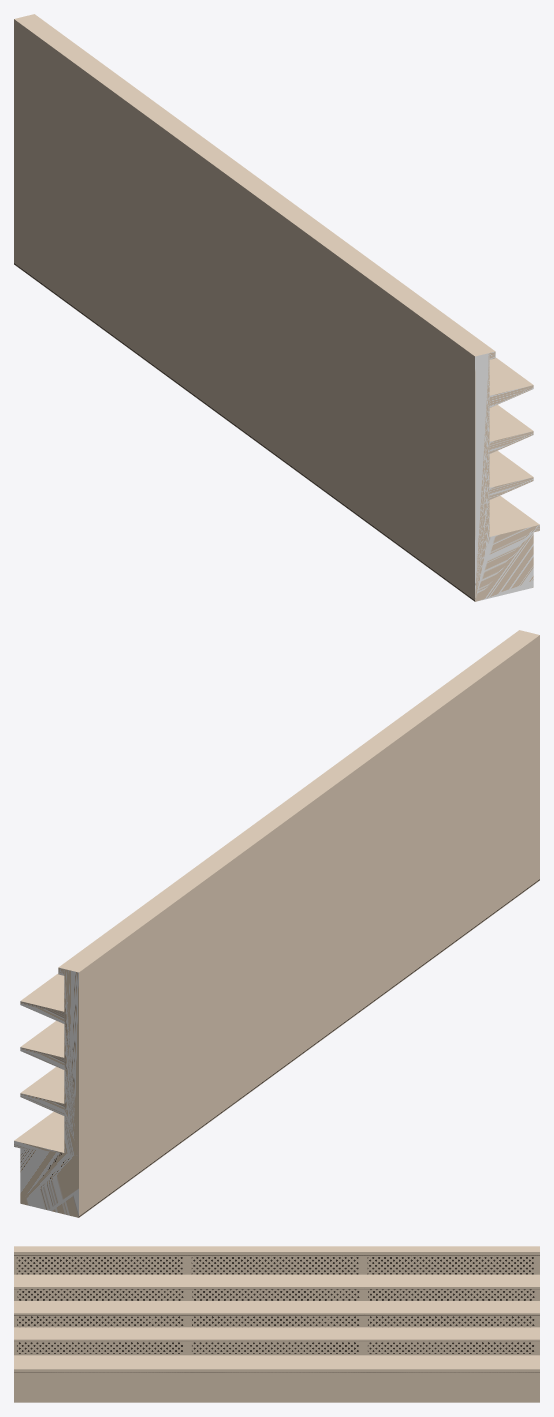
The model's file is S.3StoreShelf.fbx.
The picture shows the model from 3 angles, top to bottom: view 1: azimuth 30°, elevation 25°; view 2: azimuth 150°, elevation 25°; view 3: azimuth 270°, elevation 25°; orthographic projection. The views are drawn at different scales.
Parts seen in each view (by area): view 1: Plane.001; view 2: Plane.001; view 3: Plane.001.
Part boxes in pixels (x1,y1,x2,y2): Plane.001: (14, 14, 539, 601); Plane.001: (14, 630, 539, 1217); Plane.001: (14, 1246, 539, 1402).
Bounding box in the file's own units: 166 × 600 × 2042.
